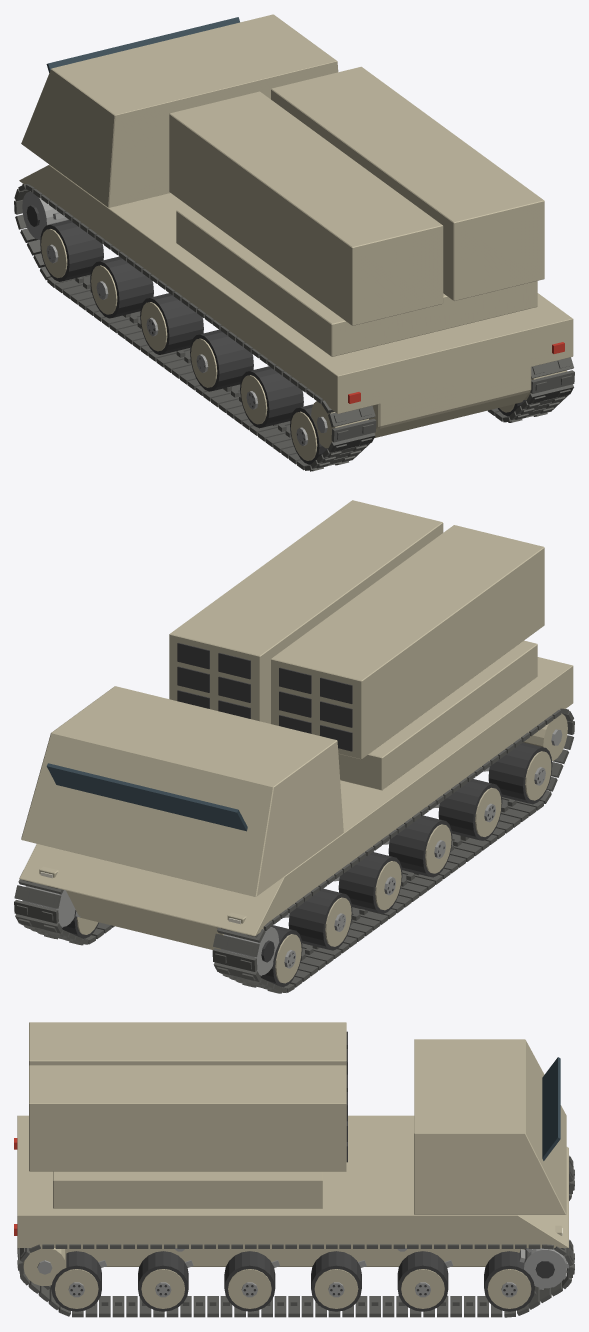
File: usa_mlrs_m270.glb
The picture shows the model from 3 angles, top to bottom: view 1: azimuth 30°, elevation 25°; view 2: azimuth 150°, elevation 25°; view 3: azimuth 270°, elevation 25°; orthographic projection. The views are drawn at different scales.
Visible parts, largest first — view 1: body, barrel, turret; view 2: body, barrel, turret; view 3: body, barrel, turret.
Boxes of the visible parts, x1,y1,x2,y2 form: body: [14, 14, 574, 471]; barrel: [169, 66, 544, 325]; turret: [176, 207, 537, 356]; body: [14, 657, 574, 993]; barrel: [169, 500, 544, 759]; turret: [338, 640, 537, 790]; body: [14, 1039, 574, 1317]; barrel: [29, 1022, 347, 1171]; turret: [53, 1171, 322, 1208].
Bounding box in the file's own units: 3.03 × 2.85 × 7.06.
